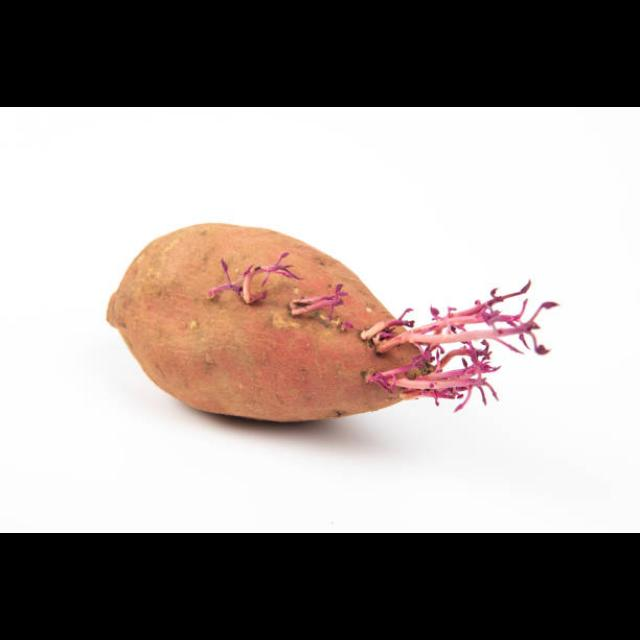Sprouted potato: (113, 203, 544, 442)
